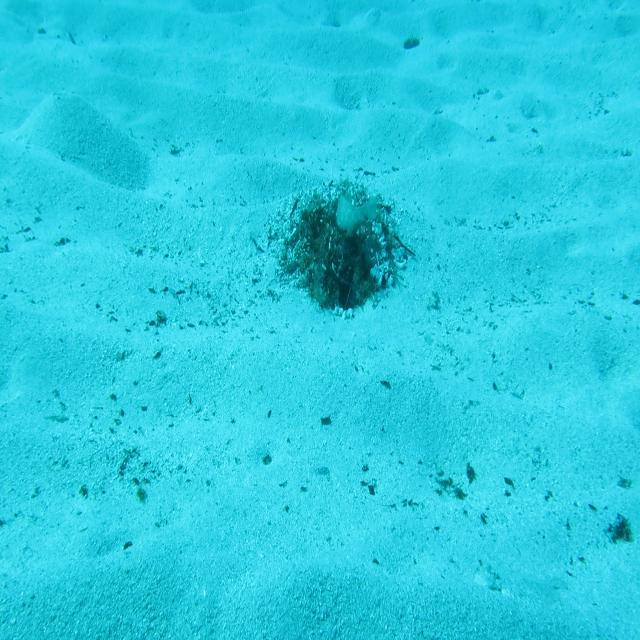NIP_CORE: (334, 186, 375, 236)
nest: (256, 177, 392, 323)
